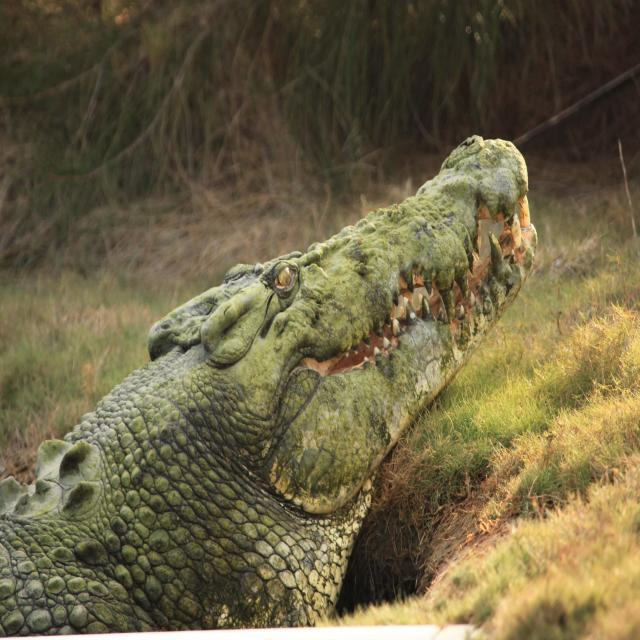crocodile: (0, 133, 542, 639)
